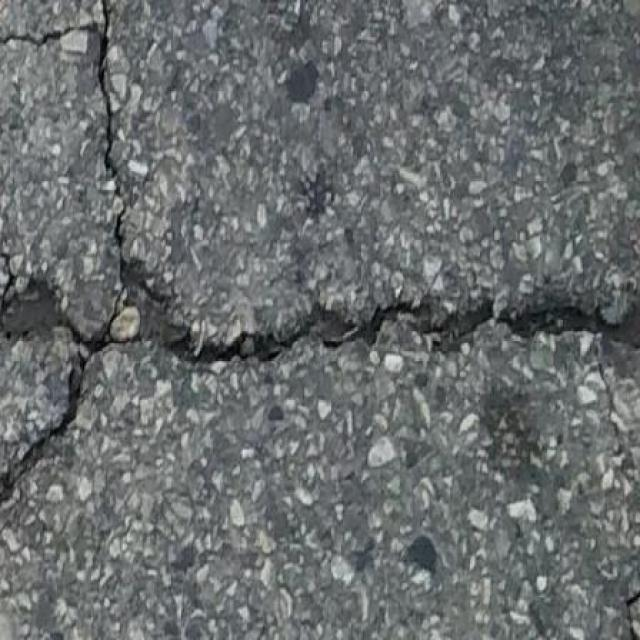Crack: (99, 292, 640, 364), (0, 248, 95, 497), (120, 194, 154, 287), (0, 26, 92, 49), (100, 6, 112, 166), (628, 605, 640, 639)
